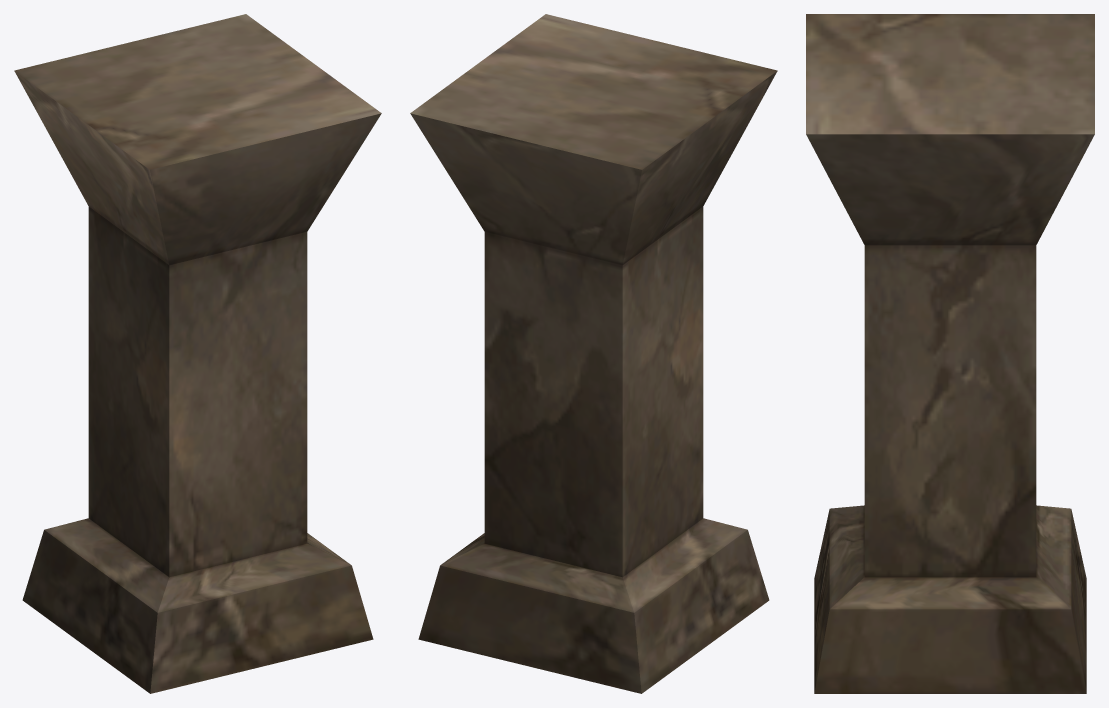
Rendered from blsd4_lizhu_a.FBX.
3 renders of one model, left to right at view 1: azimuth 30°, elevation 25°; view 2: azimuth 150°, elevation 25°; view 3: azimuth 270°, elevation 25°, orthographic. The views are drawn at different scales.
Visible parts, largest first — view 1: blsd4_lizhu_a_001; view 2: blsd4_lizhu_a_001; view 3: blsd4_lizhu_a_001.
Boxes of the visible parts, x1,y1,x2,y2 form: blsd4_lizhu_a_001: [14, 14, 381, 693]; blsd4_lizhu_a_001: [410, 14, 777, 693]; blsd4_lizhu_a_001: [806, 14, 1094, 693].
Bounding box in the file's own units: 108 × 236 × 110.
